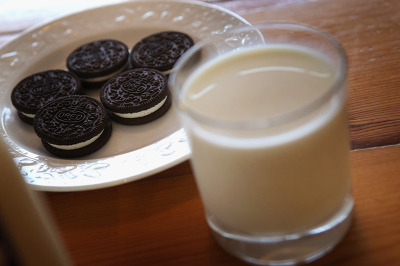glass of milk: (166, 50, 375, 264)
